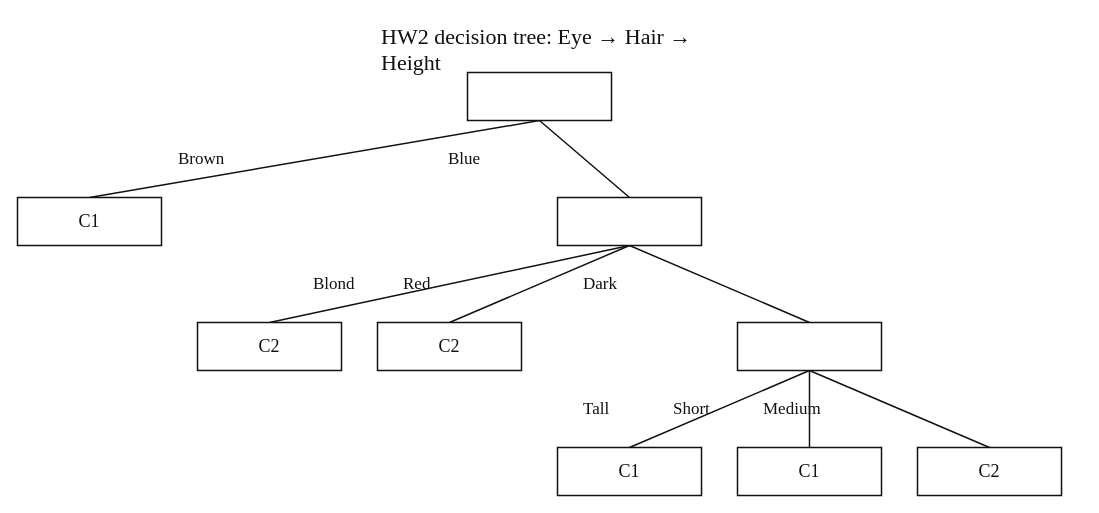
Some shapes in this 1099 by 513 pixel diagram are drawn without their labels. The centre of each missing label's shape, as x and y in pixels:
"Eye" goes at pixel 539 96.
"Hair" goes at pixel 629 221.
"Height" goes at pixel 809 346.
